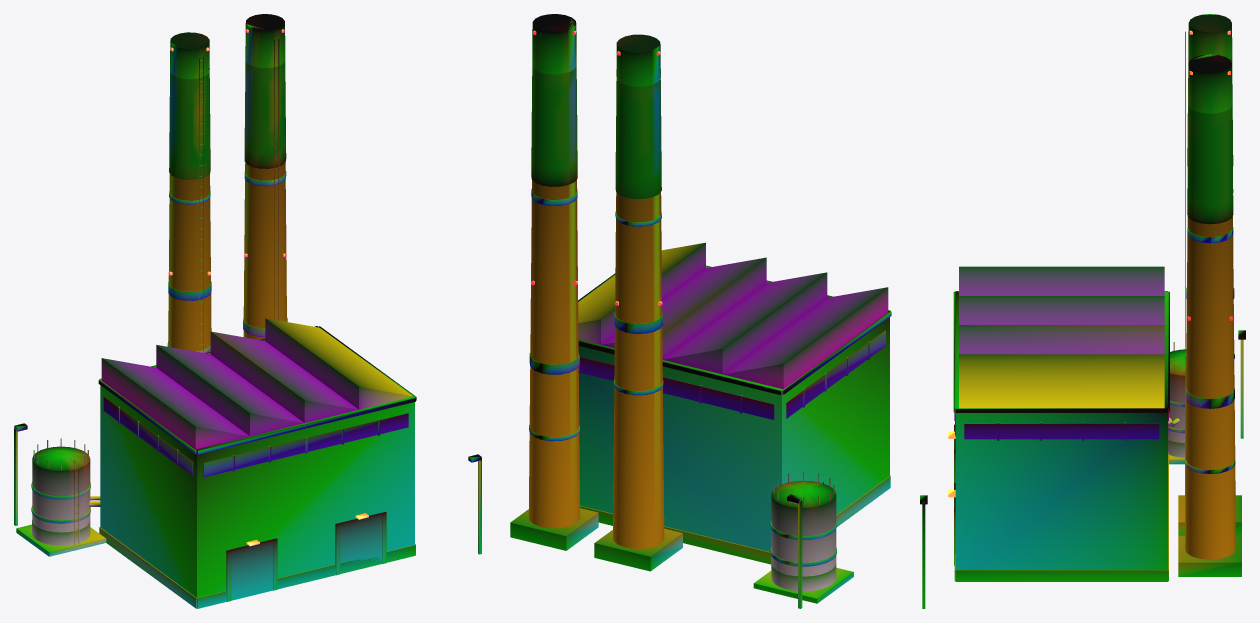
The model's file is Ind_Stacks_V12.fbx.
3 renders of one model, left to right at view 1: azimuth 30°, elevation 25°; view 2: azimuth 150°, elevation 25°; view 3: azimuth 270°, elevation 25°, orthographic. The views are drawn at different scales.
Visible parts, largest first — view 1: Ind_Stacks_V12_LOD0; view 2: Ind_Stacks_V12_LOD0; view 3: Ind_Stacks_V12_LOD0.
Part boxes in pixels (bbox=[...]): Ind_Stacks_V12_LOD0: bbox=[14, 14, 481, 608]; Ind_Stacks_V12_LOD0: bbox=[510, 14, 891, 608]; Ind_Stacks_V12_LOD0: bbox=[920, 14, 1245, 608].
Size of what is drawn, in the model's own units: 39.05 by 52 by 30.7.
